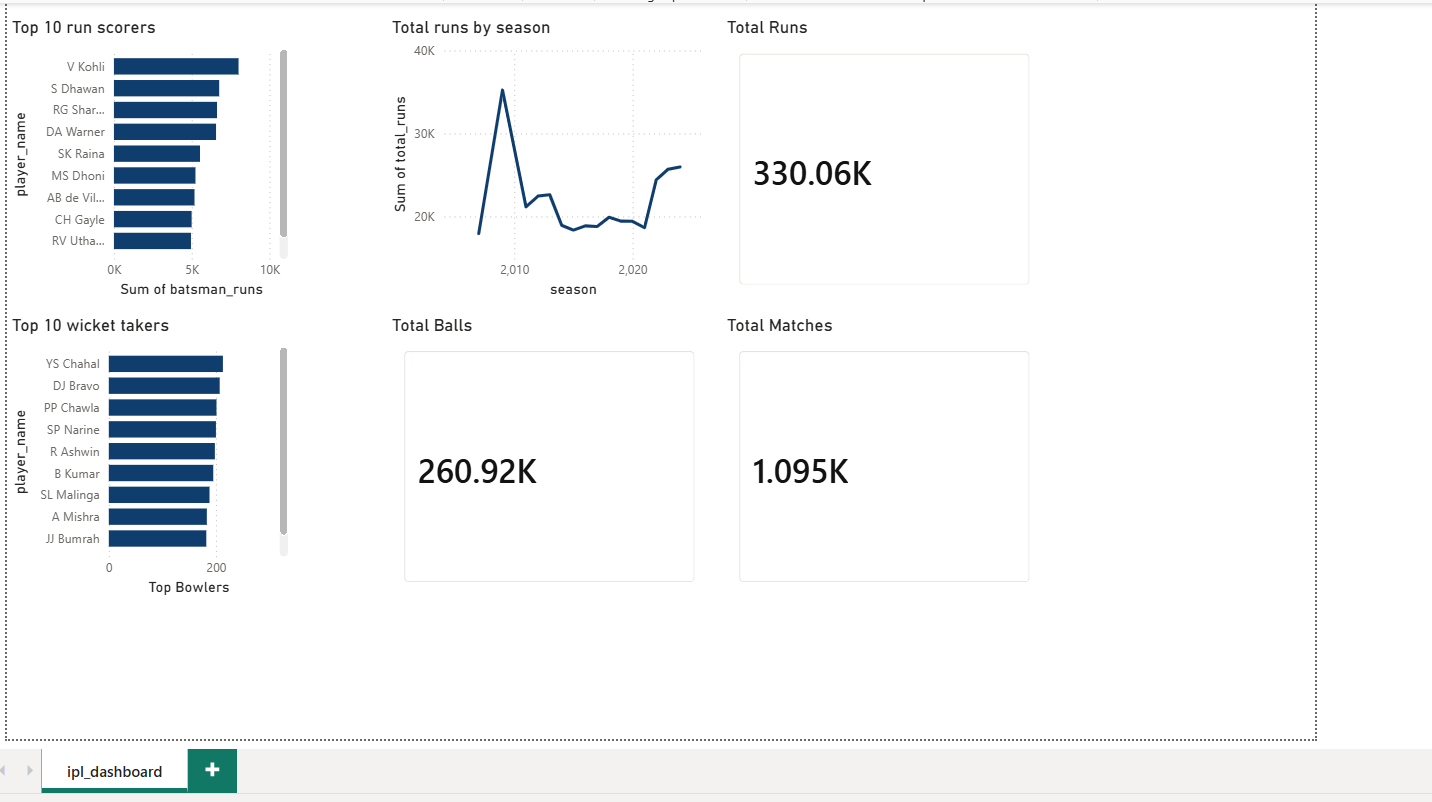

The page's visual inventory and layout, read from the dashboard file:
{"tool":"powerbi","page":{"name":"ipl_dashboard","canvas":[1280,720],"ordinal":0},"visuals":[{"type":"clusteredBarChart","title":"Top 10 run scorers","fields":{"Category":["dim_player.player_name"],"Y":["Sum(fact_deliveries.batsman_runs)"]},"box":[0,13.7,279.9,279.9],"z":0},{"type":"clusteredBarChart","title":"Top 10 wicket takers","fields":{"Category":["dim_player.player_name"],"Y":["fact_deliveries.Top Bowlers"]},"box":[0,304,280,280],"z":1},{"type":"lineChart","title":"Total runs by season","fields":{"Category":["dim_match.season"],"Y":["Sum(fact_deliveries.total_runs)"]},"box":[371.9,13.7,318.4,279.9],"z":2},{"type":"cardVisual","title":"Total Balls","fields":{"Data":["CountNonNull(fact_deliveries.delivery_id)"]},"box":[372,304,318,280],"z":3},{"type":"cardVisual","title":"Total Runs","fields":{"Data":["Sum(fact_deliveries.batsman_runs)"]},"box":[700,14,318,280],"z":4},{"type":"cardVisual","title":"Total Matches","fields":{"Data":["CountNonNull(dim_match.match_id)"]},"box":[700,304,318,280],"z":5}]}

Visuals, with their boxes on the page's 1280x720 design canvas (x1, y1, x2, y2). These are canvas units, not pixel positions in the 1432x802 screenshot, which may show the page scaled, cropped or inside an application window:
"Top 10 run scorers" clusteredBarChart: detection(0, 14, 280, 294)
"Top 10 wicket takers" clusteredBarChart: detection(0, 304, 280, 584)
"Total runs by season" lineChart: detection(372, 14, 690, 294)
"Total Balls" cardVisual: detection(372, 304, 690, 584)
"Total Runs" cardVisual: detection(700, 14, 1018, 294)
"Total Matches" cardVisual: detection(700, 304, 1018, 584)
